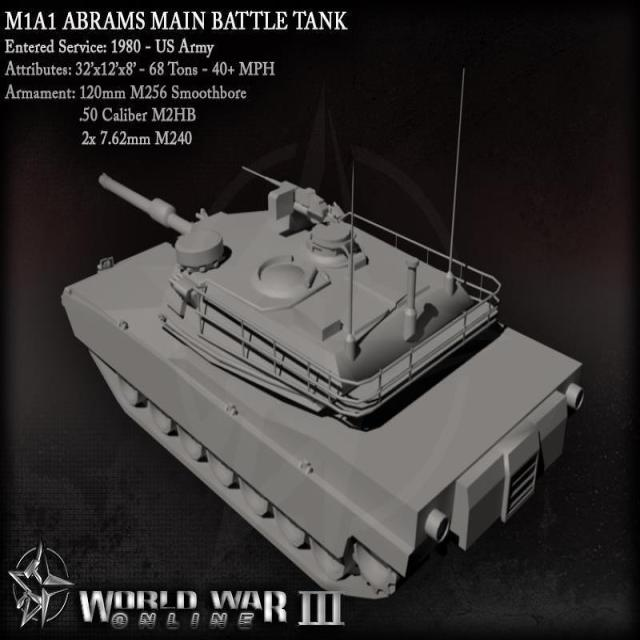Tanks: (50, 46, 567, 609)
